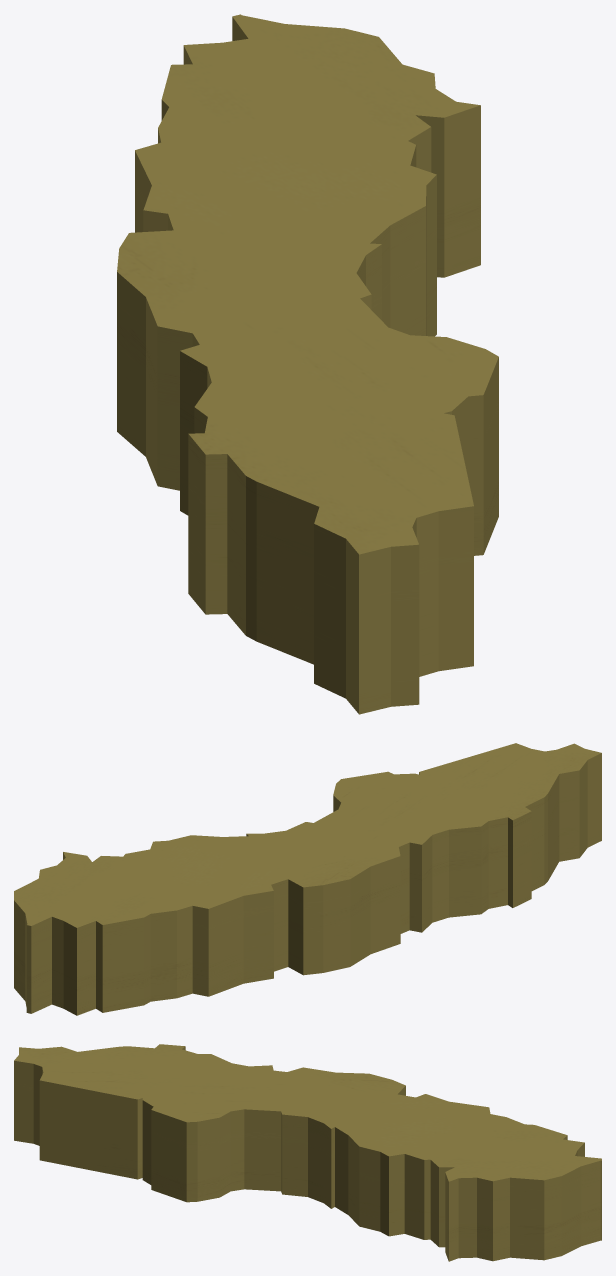
The model's file is sweden.DAE.
3 renders of one model, top to bottom at view 1: azimuth 30°, elevation 25°; view 2: azimuth 150°, elevation 25°; view 3: azimuth 270°, elevation 25°, orthographic. The views are drawn at different scales.
Parts seen in each view (by area): view 1: Sweden; view 2: Sweden; view 3: Sweden.
Part boxes in pixels (x1,y1,x2,y2): Sweden: (117, 14, 498, 714); Sweden: (14, 743, 601, 1015); Sweden: (14, 1044, 601, 1261).
Bounding box in the file's own units: 92.27 × 167 × 25.
Materials: 1 (1 with a texture image).
